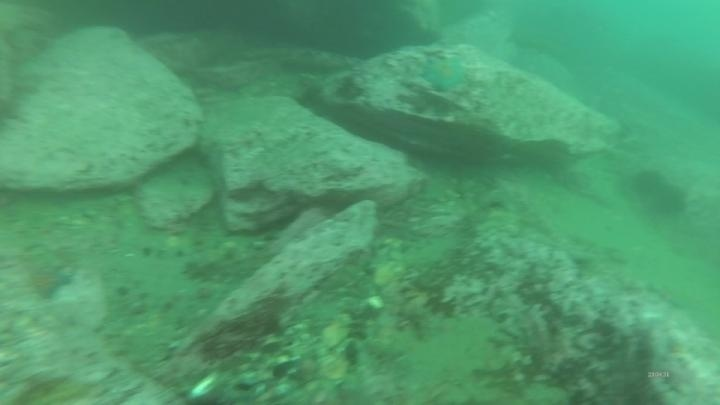echinus: (647, 181, 689, 219), (629, 167, 665, 200)
starfish: (25, 262, 75, 302), (419, 55, 470, 94)
